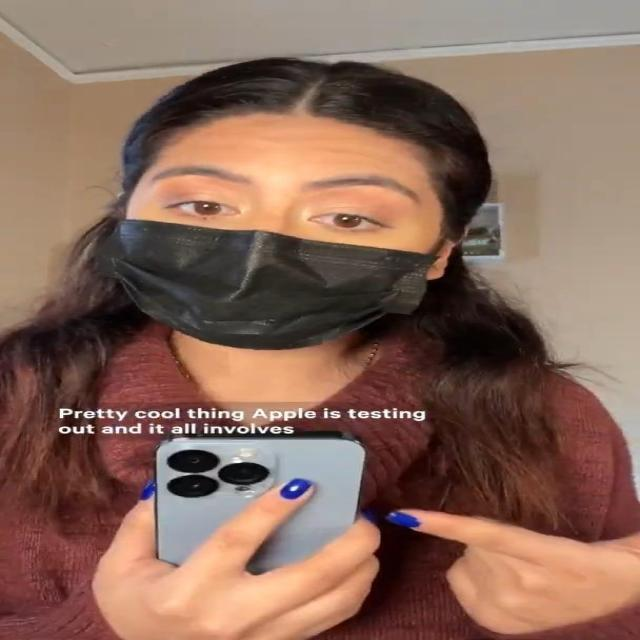Mask: (82, 116, 476, 361)
